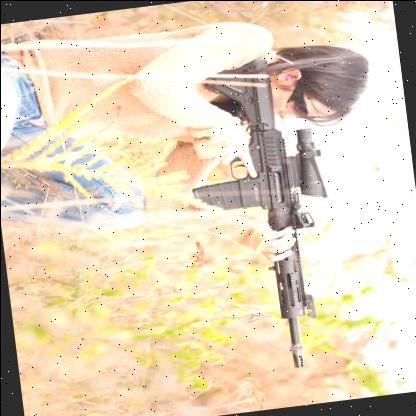rifle: (178, 51, 350, 385)
